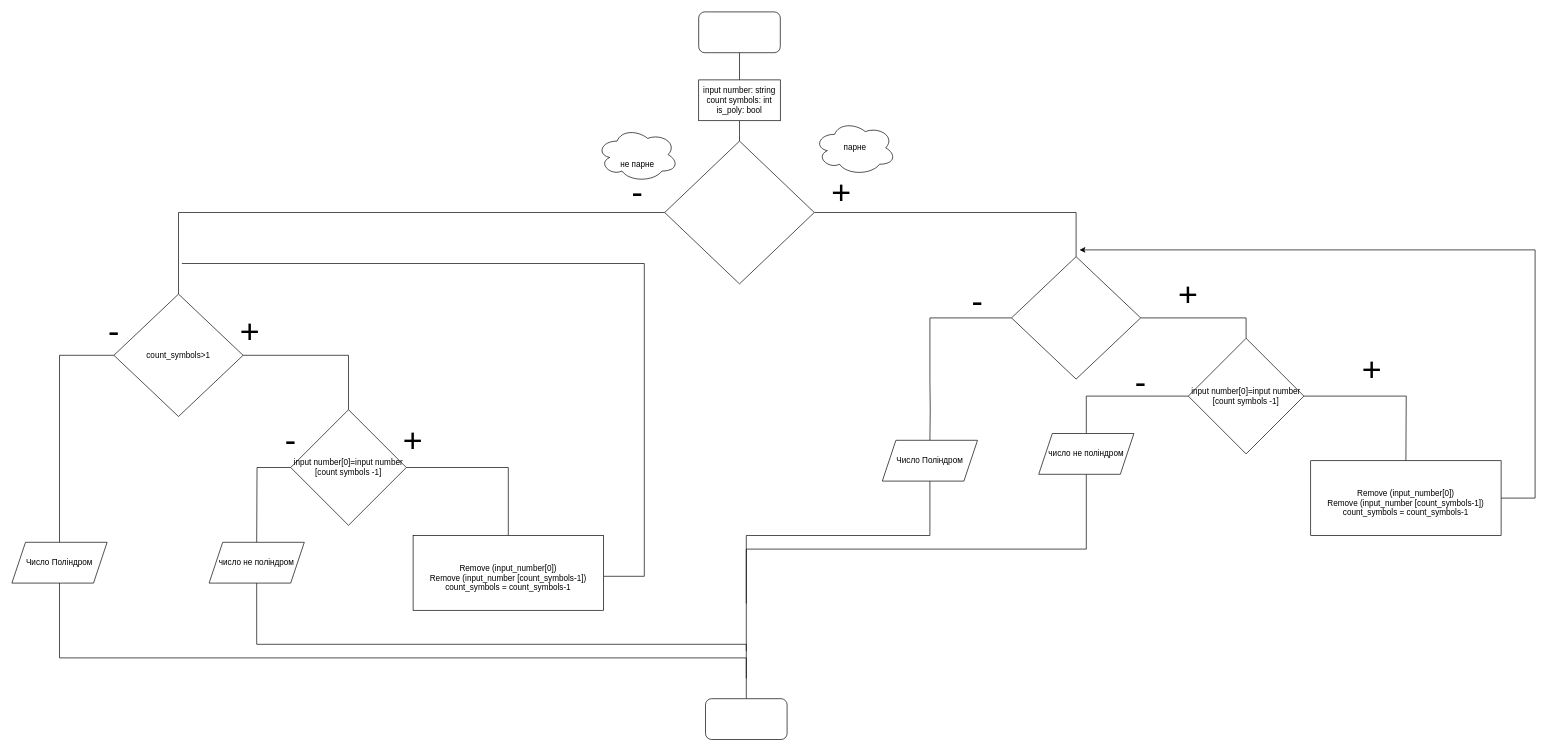
This 1552x751 diagram has some shape labels left out. Each missing label, with the centre of its shape:
"count symbols % 2 =0" goes at pixel 739 212.
"count symbols>0" goes at pixel 1076 317.
"end" goes at pixel 746 719.
"start" goes at pixel 739 32.
